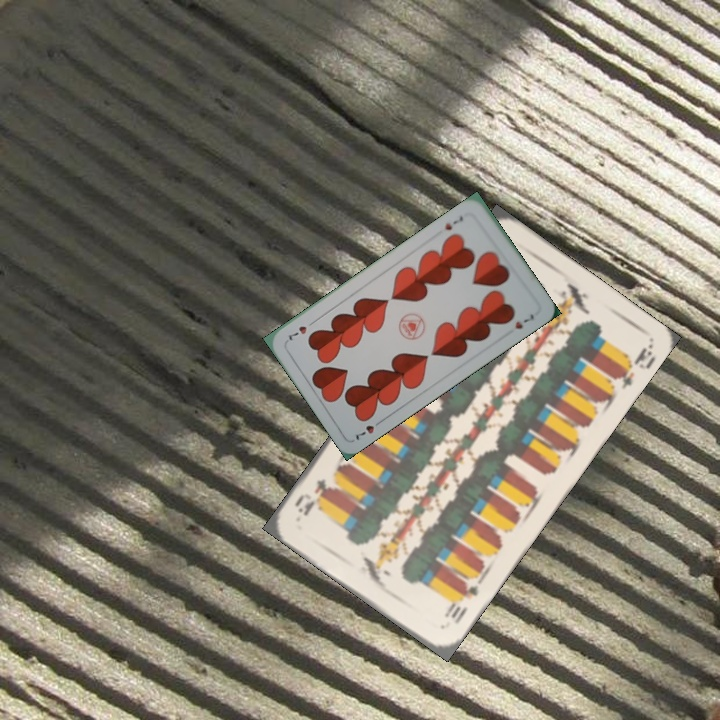E10: (440, 578, 481, 627)
H7: (351, 415, 386, 443), (441, 212, 466, 233)
